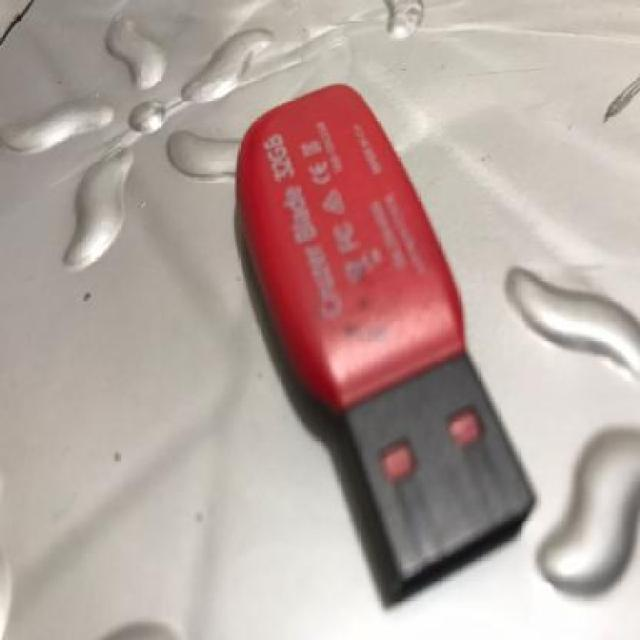Flashdisk: (227, 72, 538, 610)
